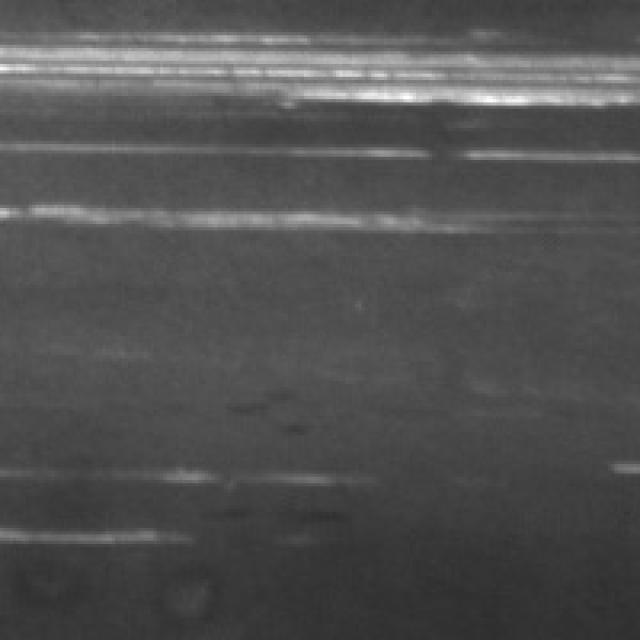scratches: (0, 19, 634, 115), (0, 189, 541, 237), (0, 502, 195, 560)
